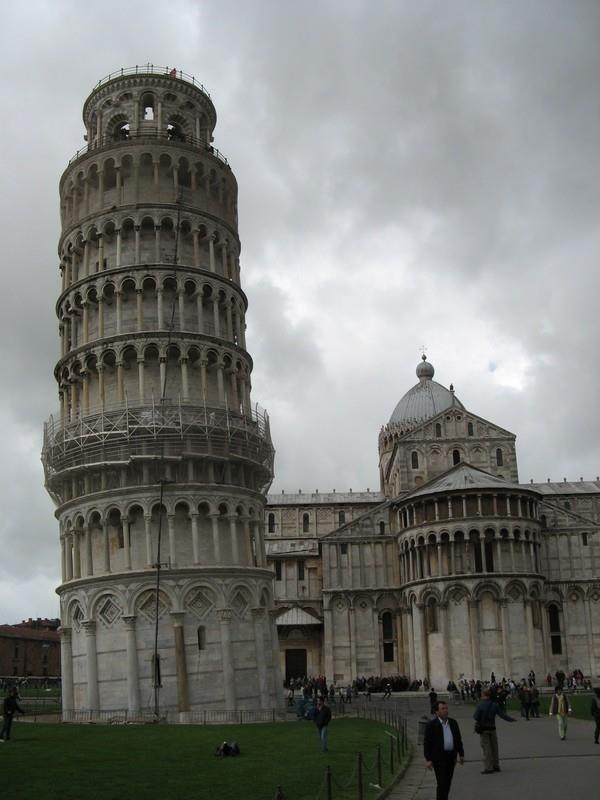Torre_di_Pisa: (43, 70, 288, 717)
